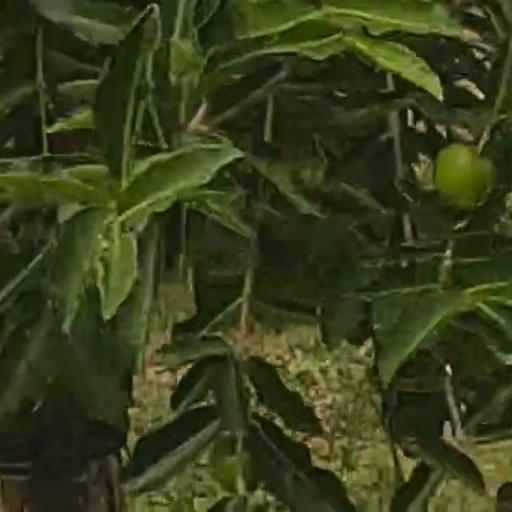acerola: (437, 143, 492, 207)
